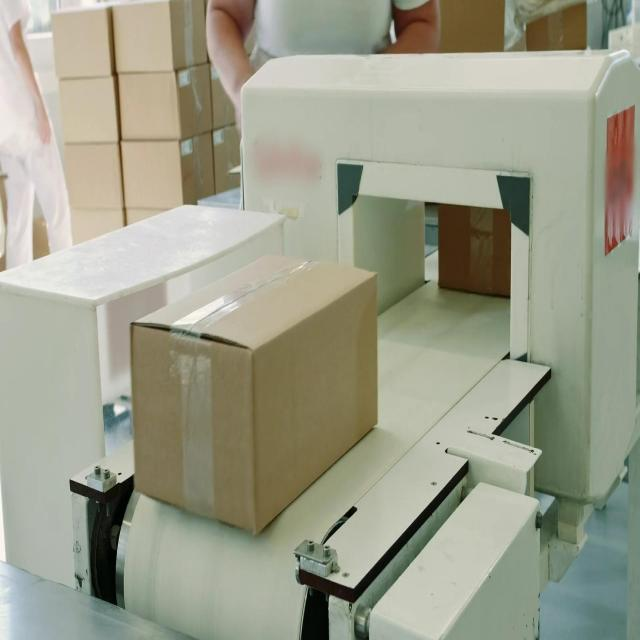box: (128, 250, 377, 532)
